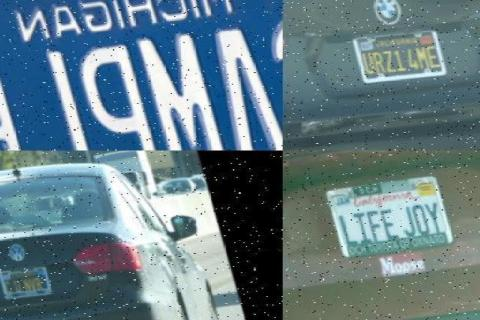LicensePlate: (0, 0, 283, 150), (321, 170, 466, 262), (349, 18, 455, 88), (1, 261, 61, 301)
